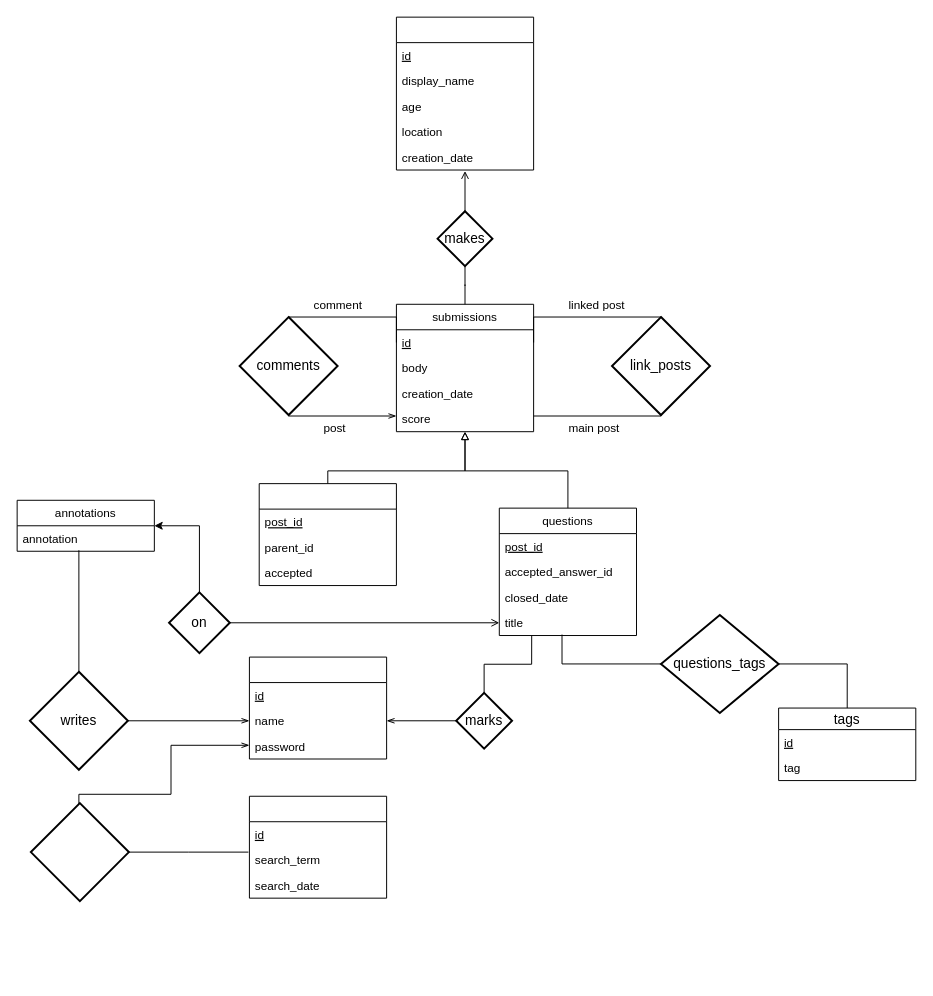
Some shapes in this 933 by 996 pixel diagram are drawn without their labels. The shapes that lost their labels are listed below. From the top down, each one's box as (x1, y1, x2, y2) in pixels, then its label:
(395, 16, 534, 170): so_members
(258, 483, 396, 586): answers
(248, 656, 387, 759): users
(29, 802, 129, 902): user_history
(248, 795, 387, 898): history
